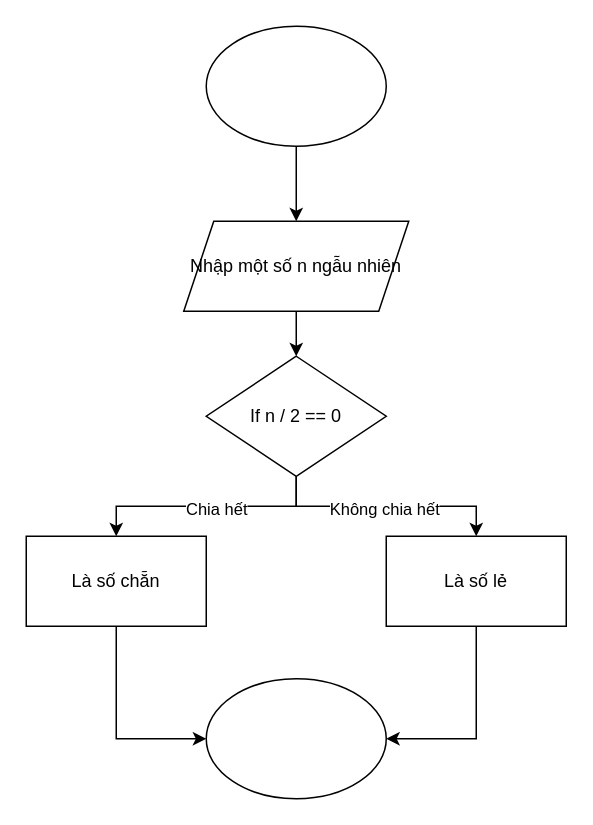
This 593x825 diagram has some shape labels left out. Each missing label, with the centre of its shape:
"End" belongs at point (295, 738).
"Start" belongs at point (295, 85).
